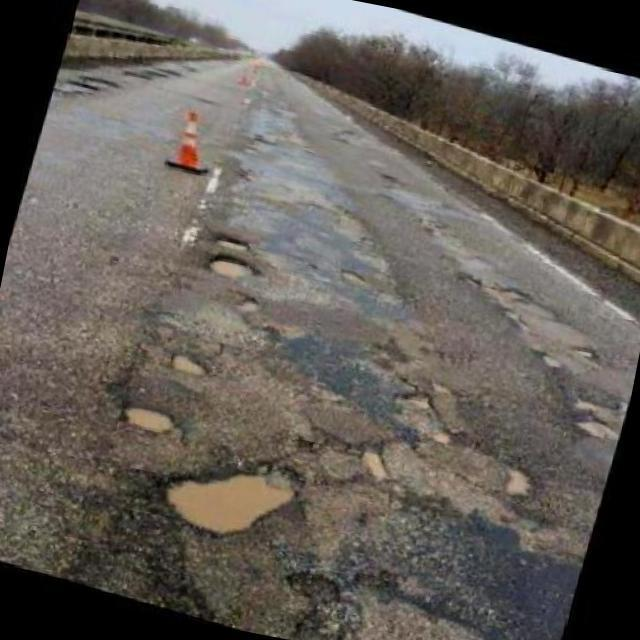Pothole: (163, 475, 296, 538), (120, 405, 183, 439), (206, 257, 253, 281), (168, 350, 207, 378), (214, 235, 253, 254)
